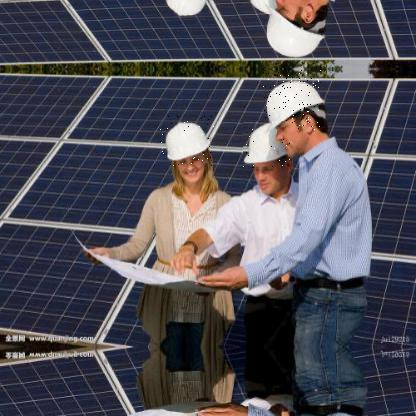safetyhelmet: (263, 70, 322, 132), (160, 116, 216, 168), (243, 121, 293, 170)
